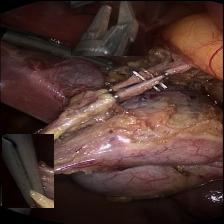Clipper: (71, 0, 145, 55)
Grasper: (1, 27, 124, 71), (2, 133, 54, 207)
